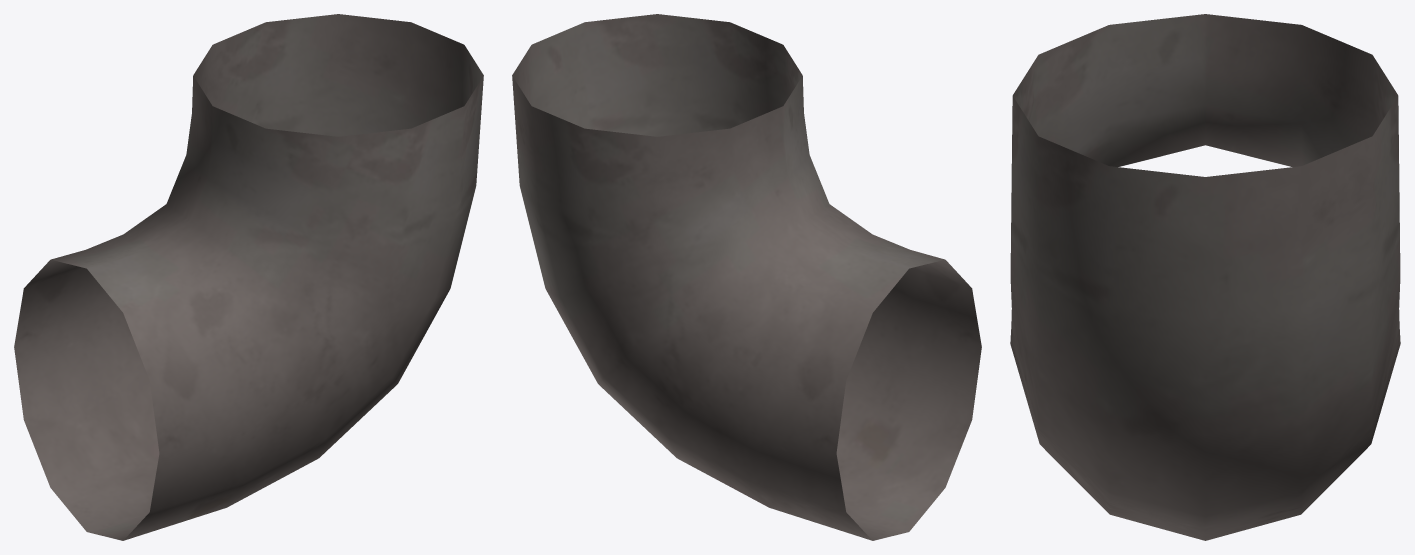
File: CanoEnormeJoelho.fbx
3 renders of one model, left to right at view 1: azimuth 30°, elevation 25°; view 2: azimuth 150°, elevation 25°; view 3: azimuth 270°, elevation 25°, orthographic. The views are drawn at different scales.
Parts seen in each view (by area): view 1: CanoEnormeJoelho; view 2: CanoEnormeJoelho; view 3: CanoEnormeJoelho.
Part boxes in pixels (<box>): CanoEnormeJoelho: <box>14,14,483,540</box>; CanoEnormeJoelho: <box>512,14,981,540</box>; CanoEnormeJoelho: <box>1010,14,1400,540</box>.
Size of the model in its own units: 300 by 300 by 202.
